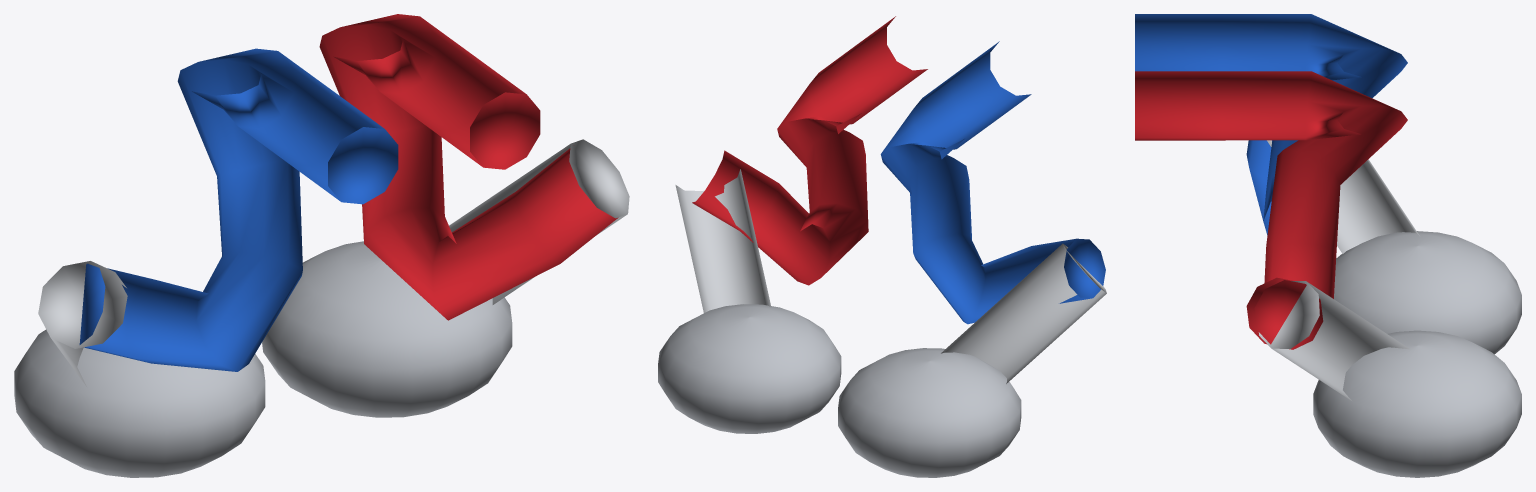
File: body.glb
3 views of the same model, side by side, from view 1: azimuth 30°, elevation 25°; view 2: azimuth 150°, elevation 25°; view 3: azimuth 270°, elevation 25° (orthographic). The views are drawn at different scales.
Parts seen in each view (by area): view 1: conductor_p2, conductor_p1, end_board_joint_p1, end_board_joint_p2, end_board_tip_p2, end_board_tip_p1; view 2: conductor_p1, conductor_p2, end_board_joint_p1, end_board_joint_p2, end_board_tip_p2, end_board_tip_p1; view 3: conductor_p1, end_board_joint_p1, conductor_p2, end_board_joint_p2, end_board_tip_p1, end_board_tip_p2.
Boxes of the visible parts, left/top/right/bottom form: conductor_p2: left=79, top=48, right=398, bottom=371; conductor_p1: left=319, top=14, right=618, bottom=320; end_board_joint_p1: left=262, top=241, right=512, bottom=417; end_board_joint_p2: left=14, top=329, right=265, bottom=477; end_board_tip_p2: left=38, top=261, right=127, bottom=386; end_board_tip_p1: left=449, top=139, right=629, bottom=304; conductor_p1: left=692, top=16, right=927, bottom=285; conductor_p2: left=880, top=41, right=1105, bottom=324; end_board_joint_p1: left=658, top=304, right=841, bottom=433; end_board_joint_p2: left=838, top=348, right=1021, bottom=477; end_board_tip_p2: left=941, top=243, right=1106, bottom=383; end_board_tip_p1: left=675, top=169, right=771, bottom=312; conductor_p1: left=1135, top=71, right=1407, bottom=349; end_board_joint_p1: left=1313, top=330, right=1521, bottom=477; conductor_p2: left=1135, top=14, right=1407, bottom=235; end_board_joint_p2: left=1334, top=231, right=1521, bottom=354; end_board_tip_p1: left=1258, top=281, right=1409, bottom=401; end_board_tip_p2: left=1267, top=140, right=1419, bottom=253.
Bounding box in the file's own units: 0.00471 × 0.00345 × 0.00329.
